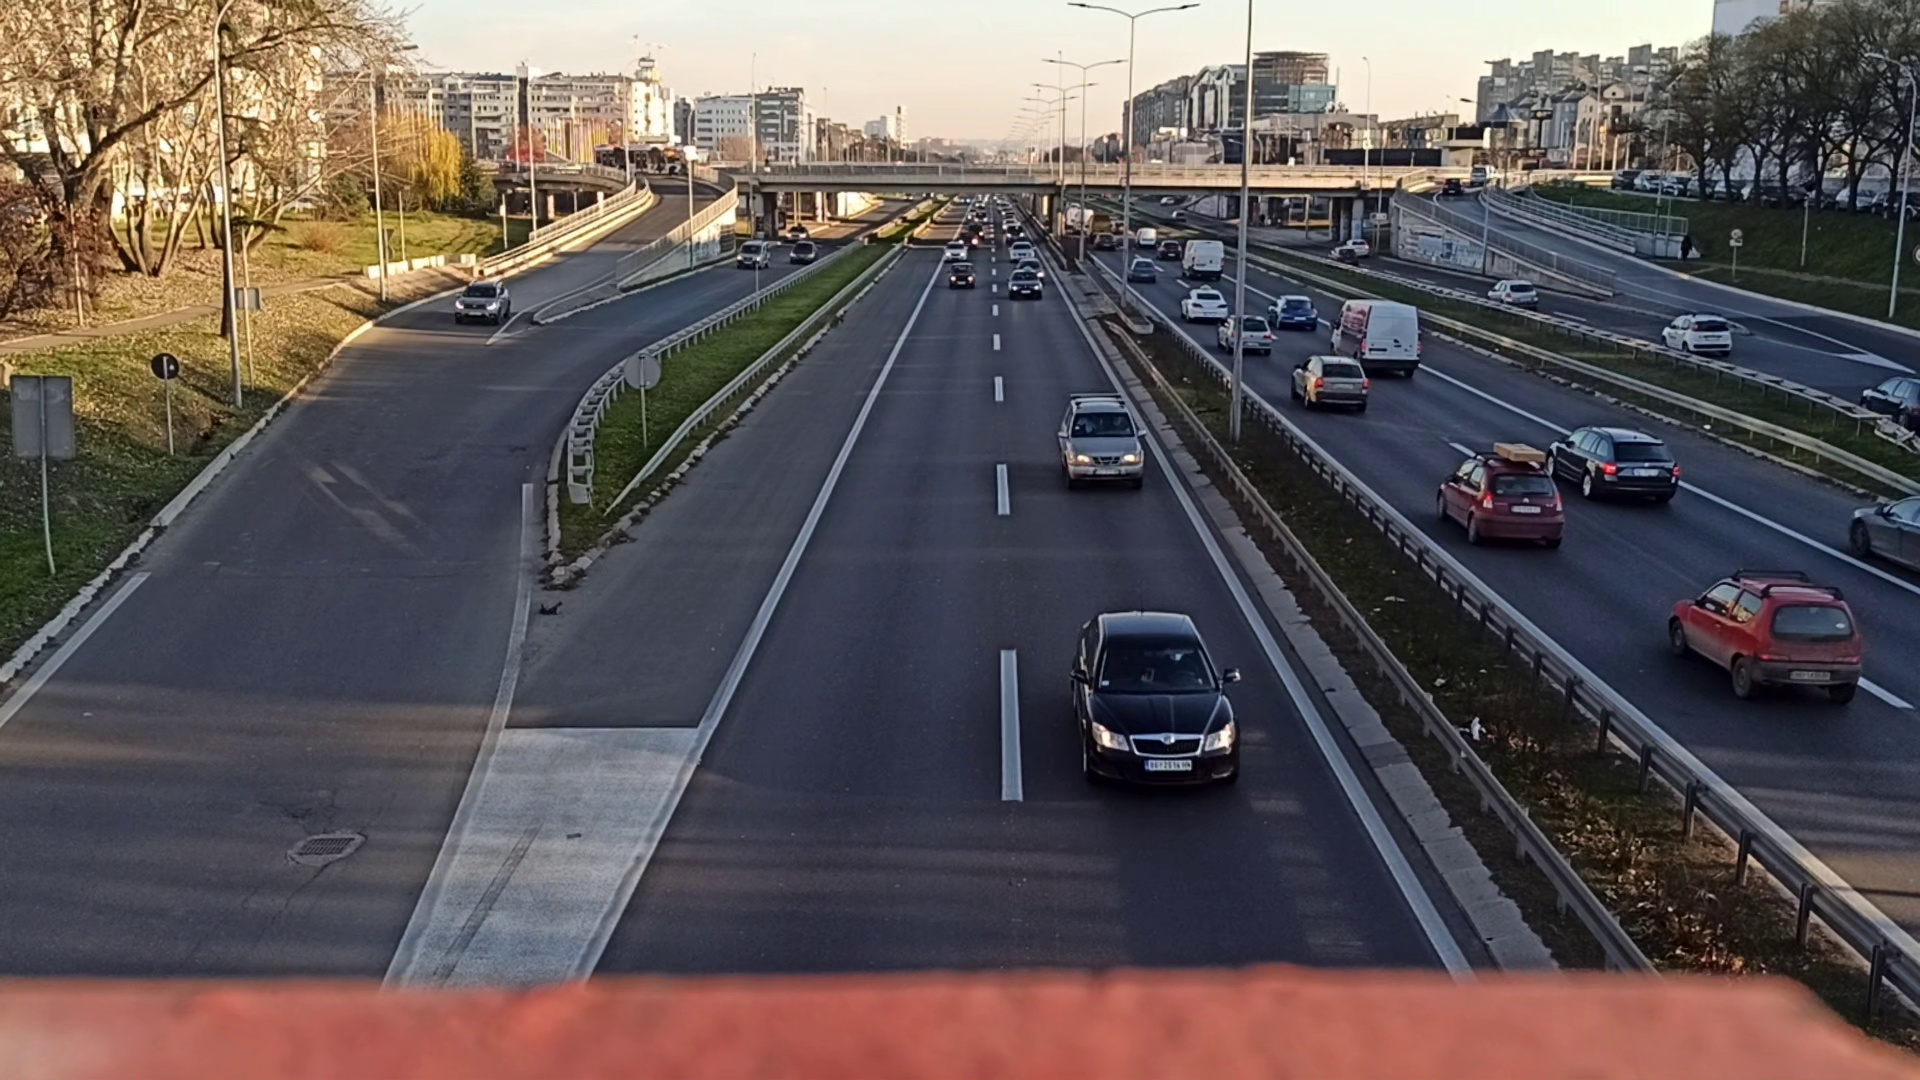car: (1073, 607, 1240, 796), (1673, 568, 1857, 709), (1440, 440, 1564, 553), (1549, 423, 1683, 514), (1058, 392, 1145, 485), (1292, 356, 1369, 411), (456, 278, 509, 322), (1220, 316, 1270, 353), (1269, 295, 1317, 332), (1183, 285, 1226, 322), (1005, 268, 1044, 299), (738, 237, 767, 265), (945, 262, 976, 289), (789, 240, 815, 264), (1010, 240, 1033, 260), (945, 237, 965, 258)
van: (1331, 295, 1422, 371), (1182, 236, 1224, 276)
